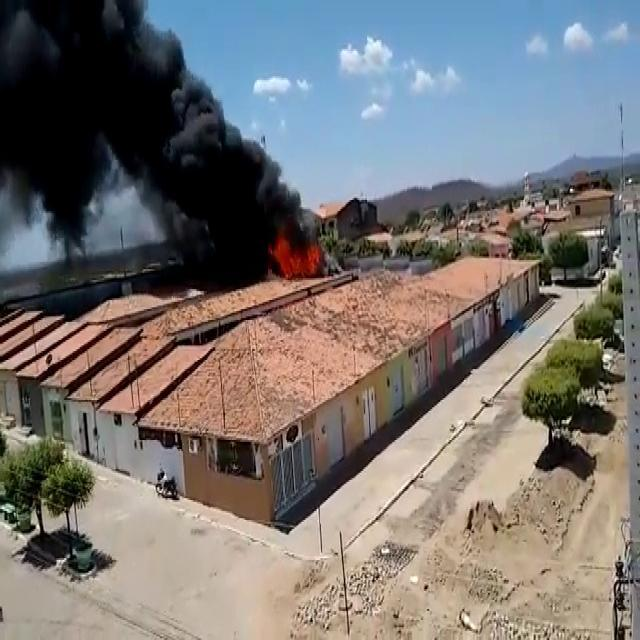Fire: (274, 230, 321, 285)
Smoke: (10, 8, 264, 282)
